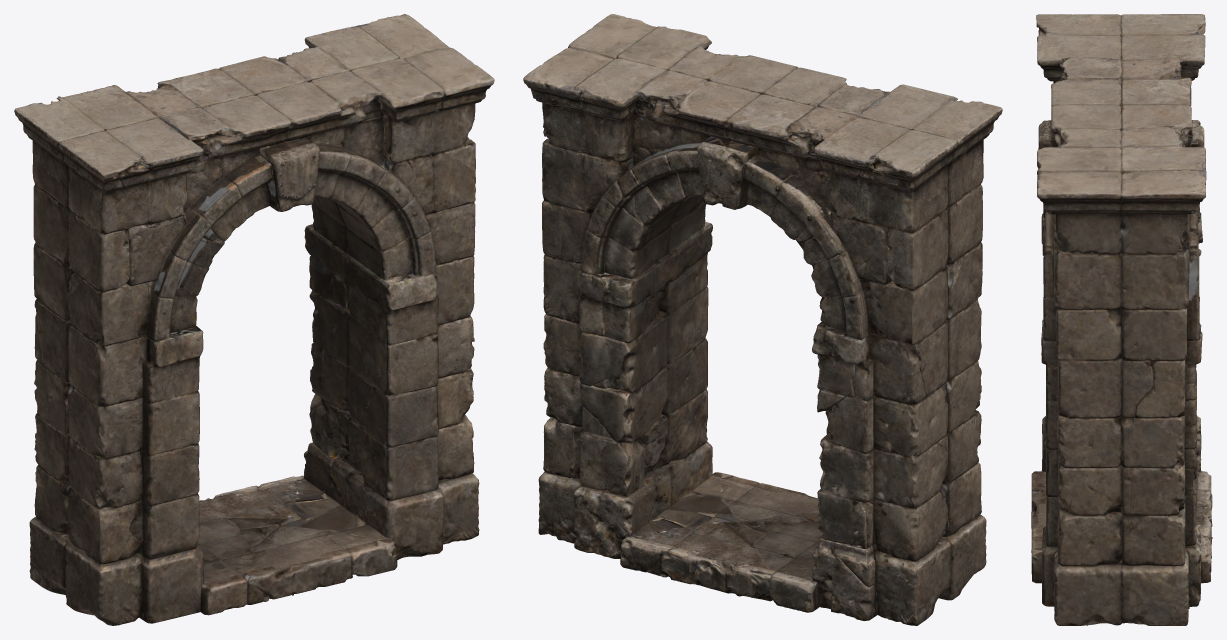
File: Arena_gate.glb
3 views of the same model, side by side, from view 1: azimuth 30°, elevation 25°; view 2: azimuth 150°, elevation 25°; view 3: azimuth 270°, elevation 25° (orthographic). The views are drawn at different scales.
Visible parts, largest first — view 1: YVO3D.obj; view 2: YVO3D.obj; view 3: YVO3D.obj.
Boxes of the visible parts, box(x1,y1,x2,y2) form: YVO3D.obj: box(14, 14, 494, 625); YVO3D.obj: box(523, 14, 1002, 625); YVO3D.obj: box(1031, 14, 1212, 625).
Size of the model in its own units: 0.8584 by 0.9813 by 0.3655.
1 material, 1 textured.
